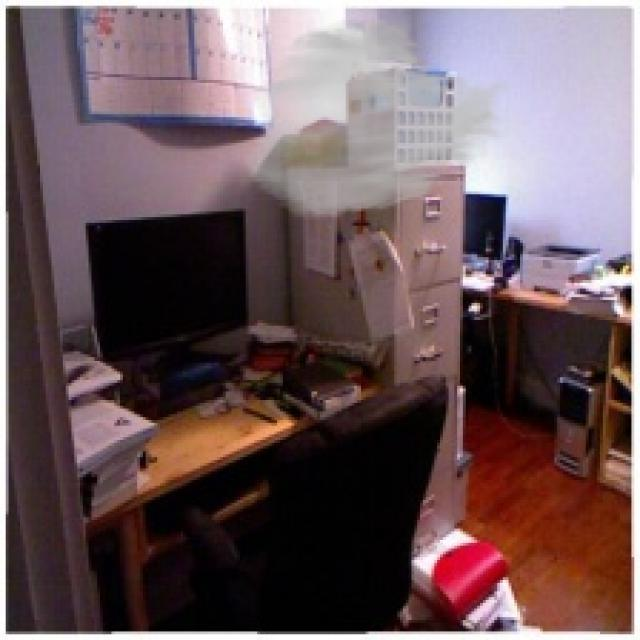Smoke: (240, 14, 514, 220)
